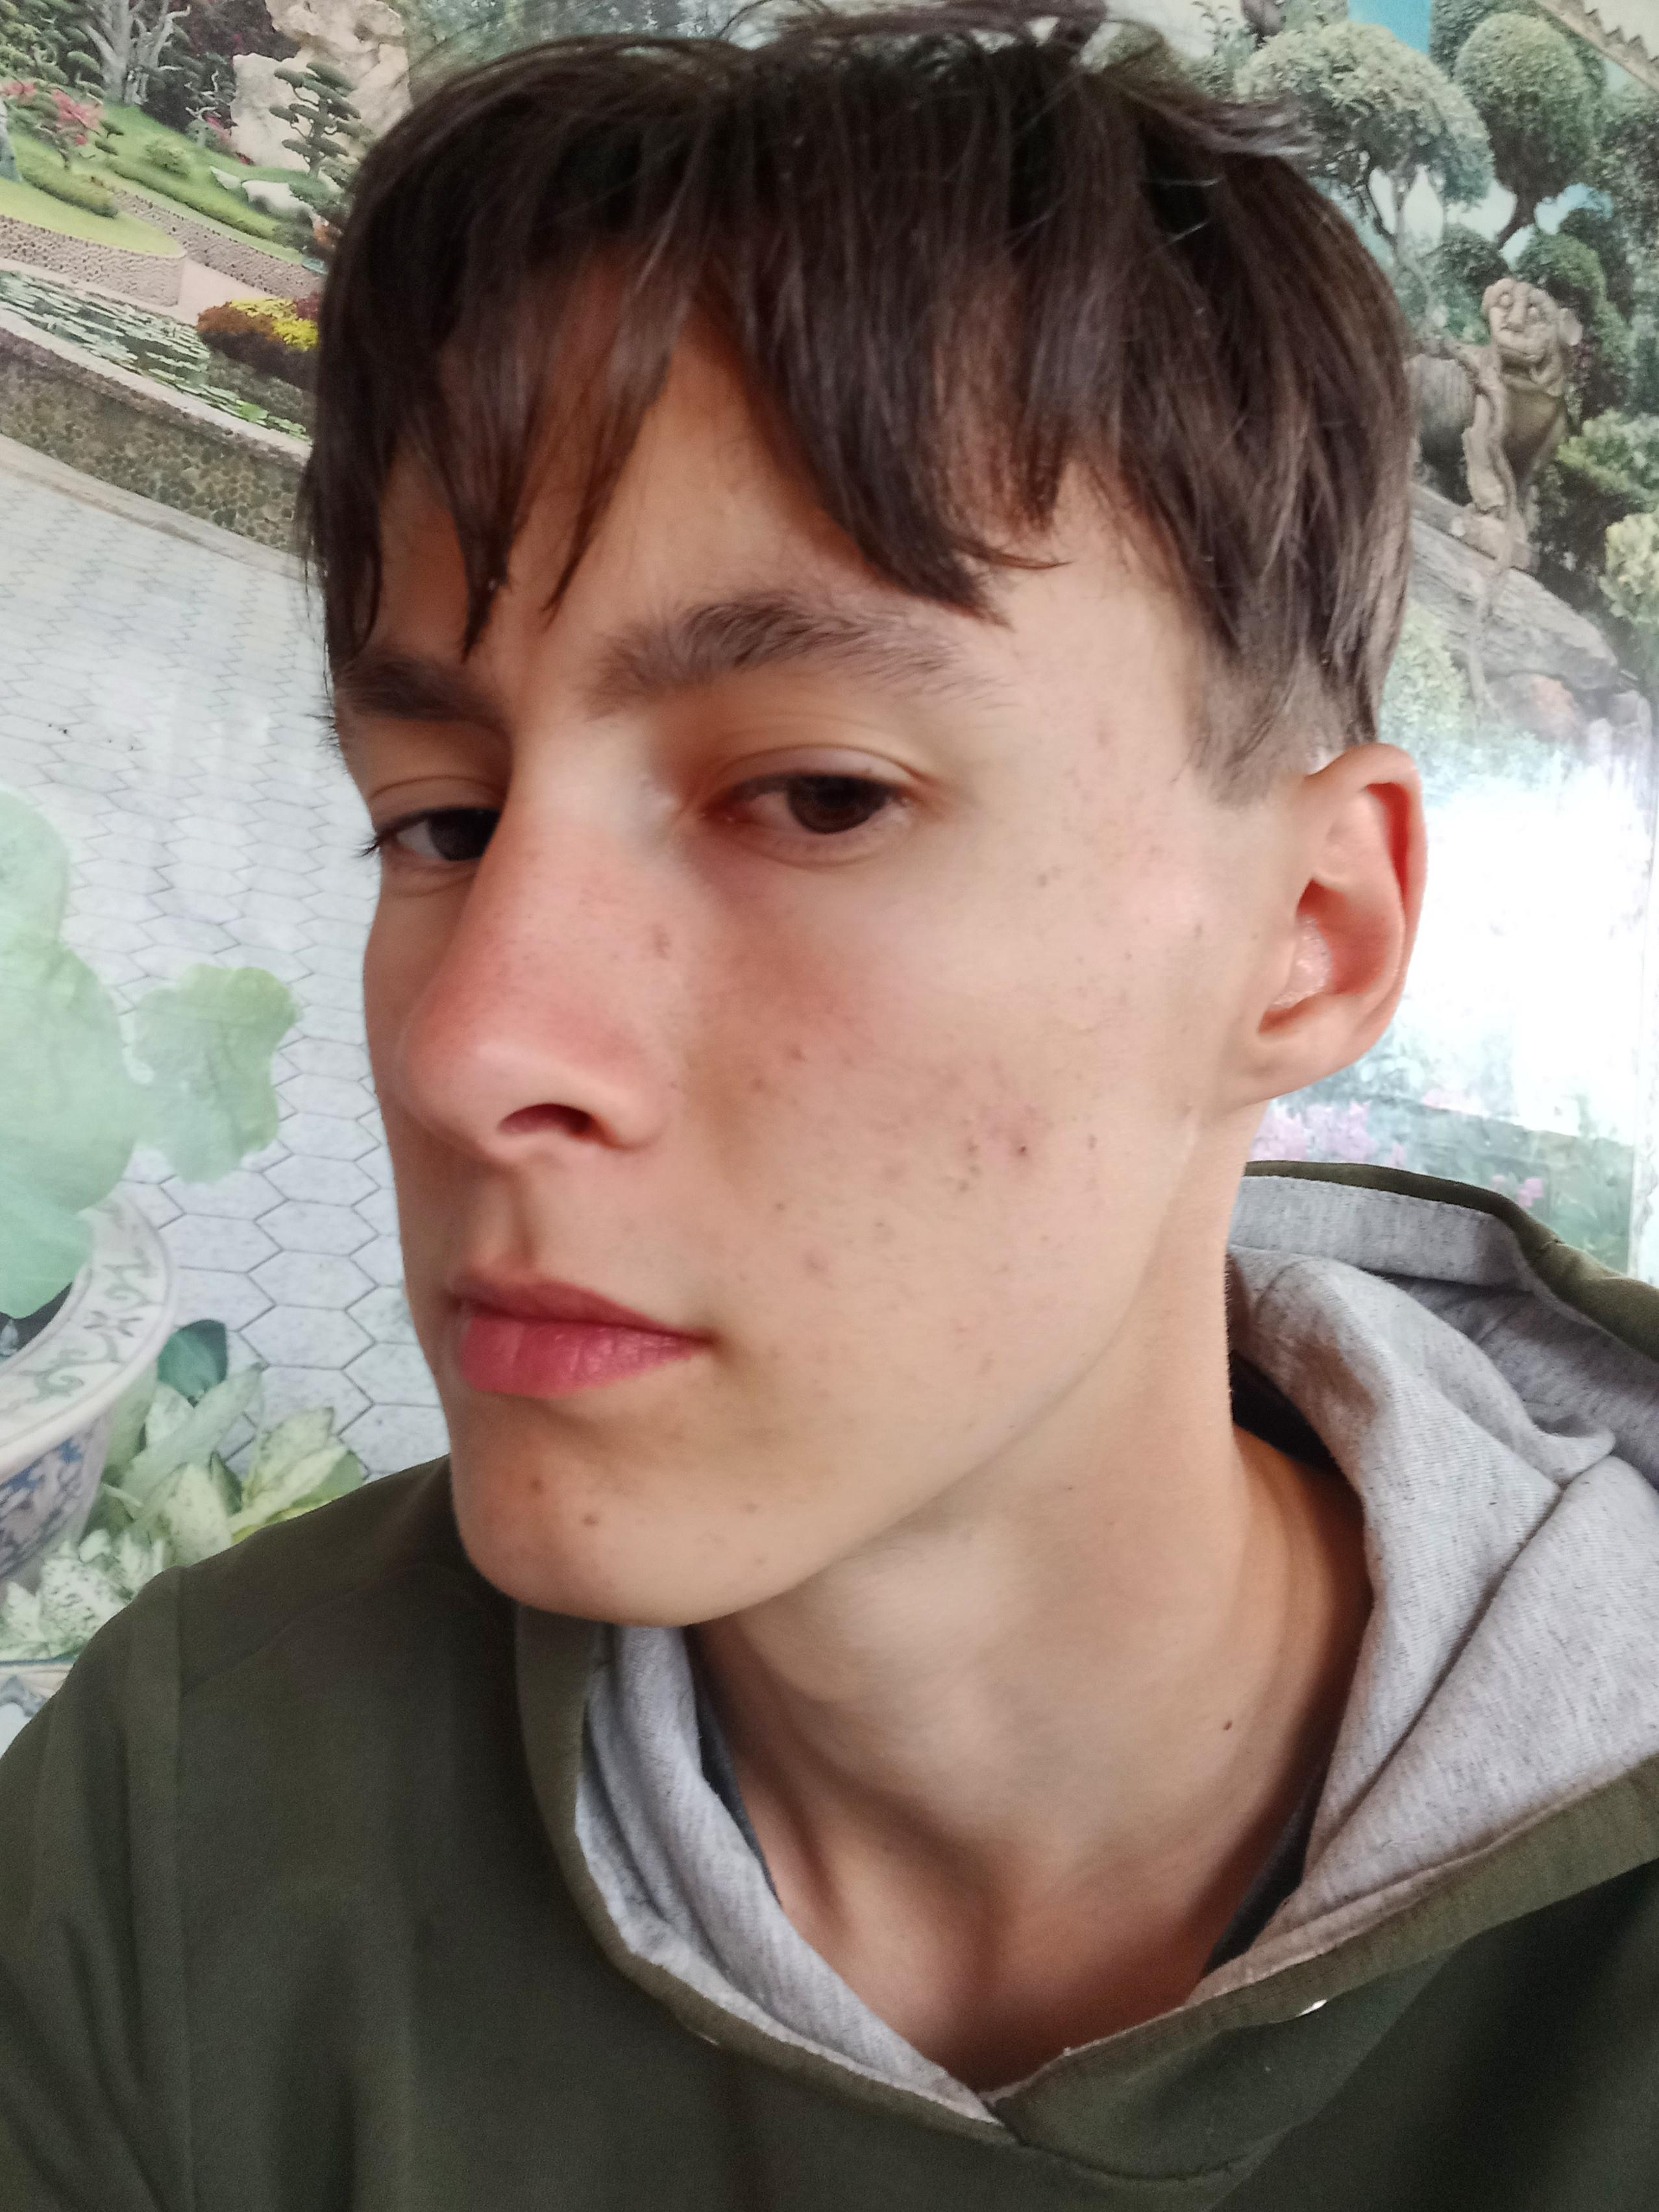Acne: (643, 920, 676, 965)
Blackheads: (936, 1066, 1053, 1204), (1075, 732, 1164, 878), (763, 1198, 829, 1282), (1073, 1092, 1108, 1231), (857, 1153, 911, 1240), (744, 1042, 814, 1103), (1077, 944, 1138, 1003), (1030, 1223, 1084, 1263), (1030, 857, 1061, 892)
